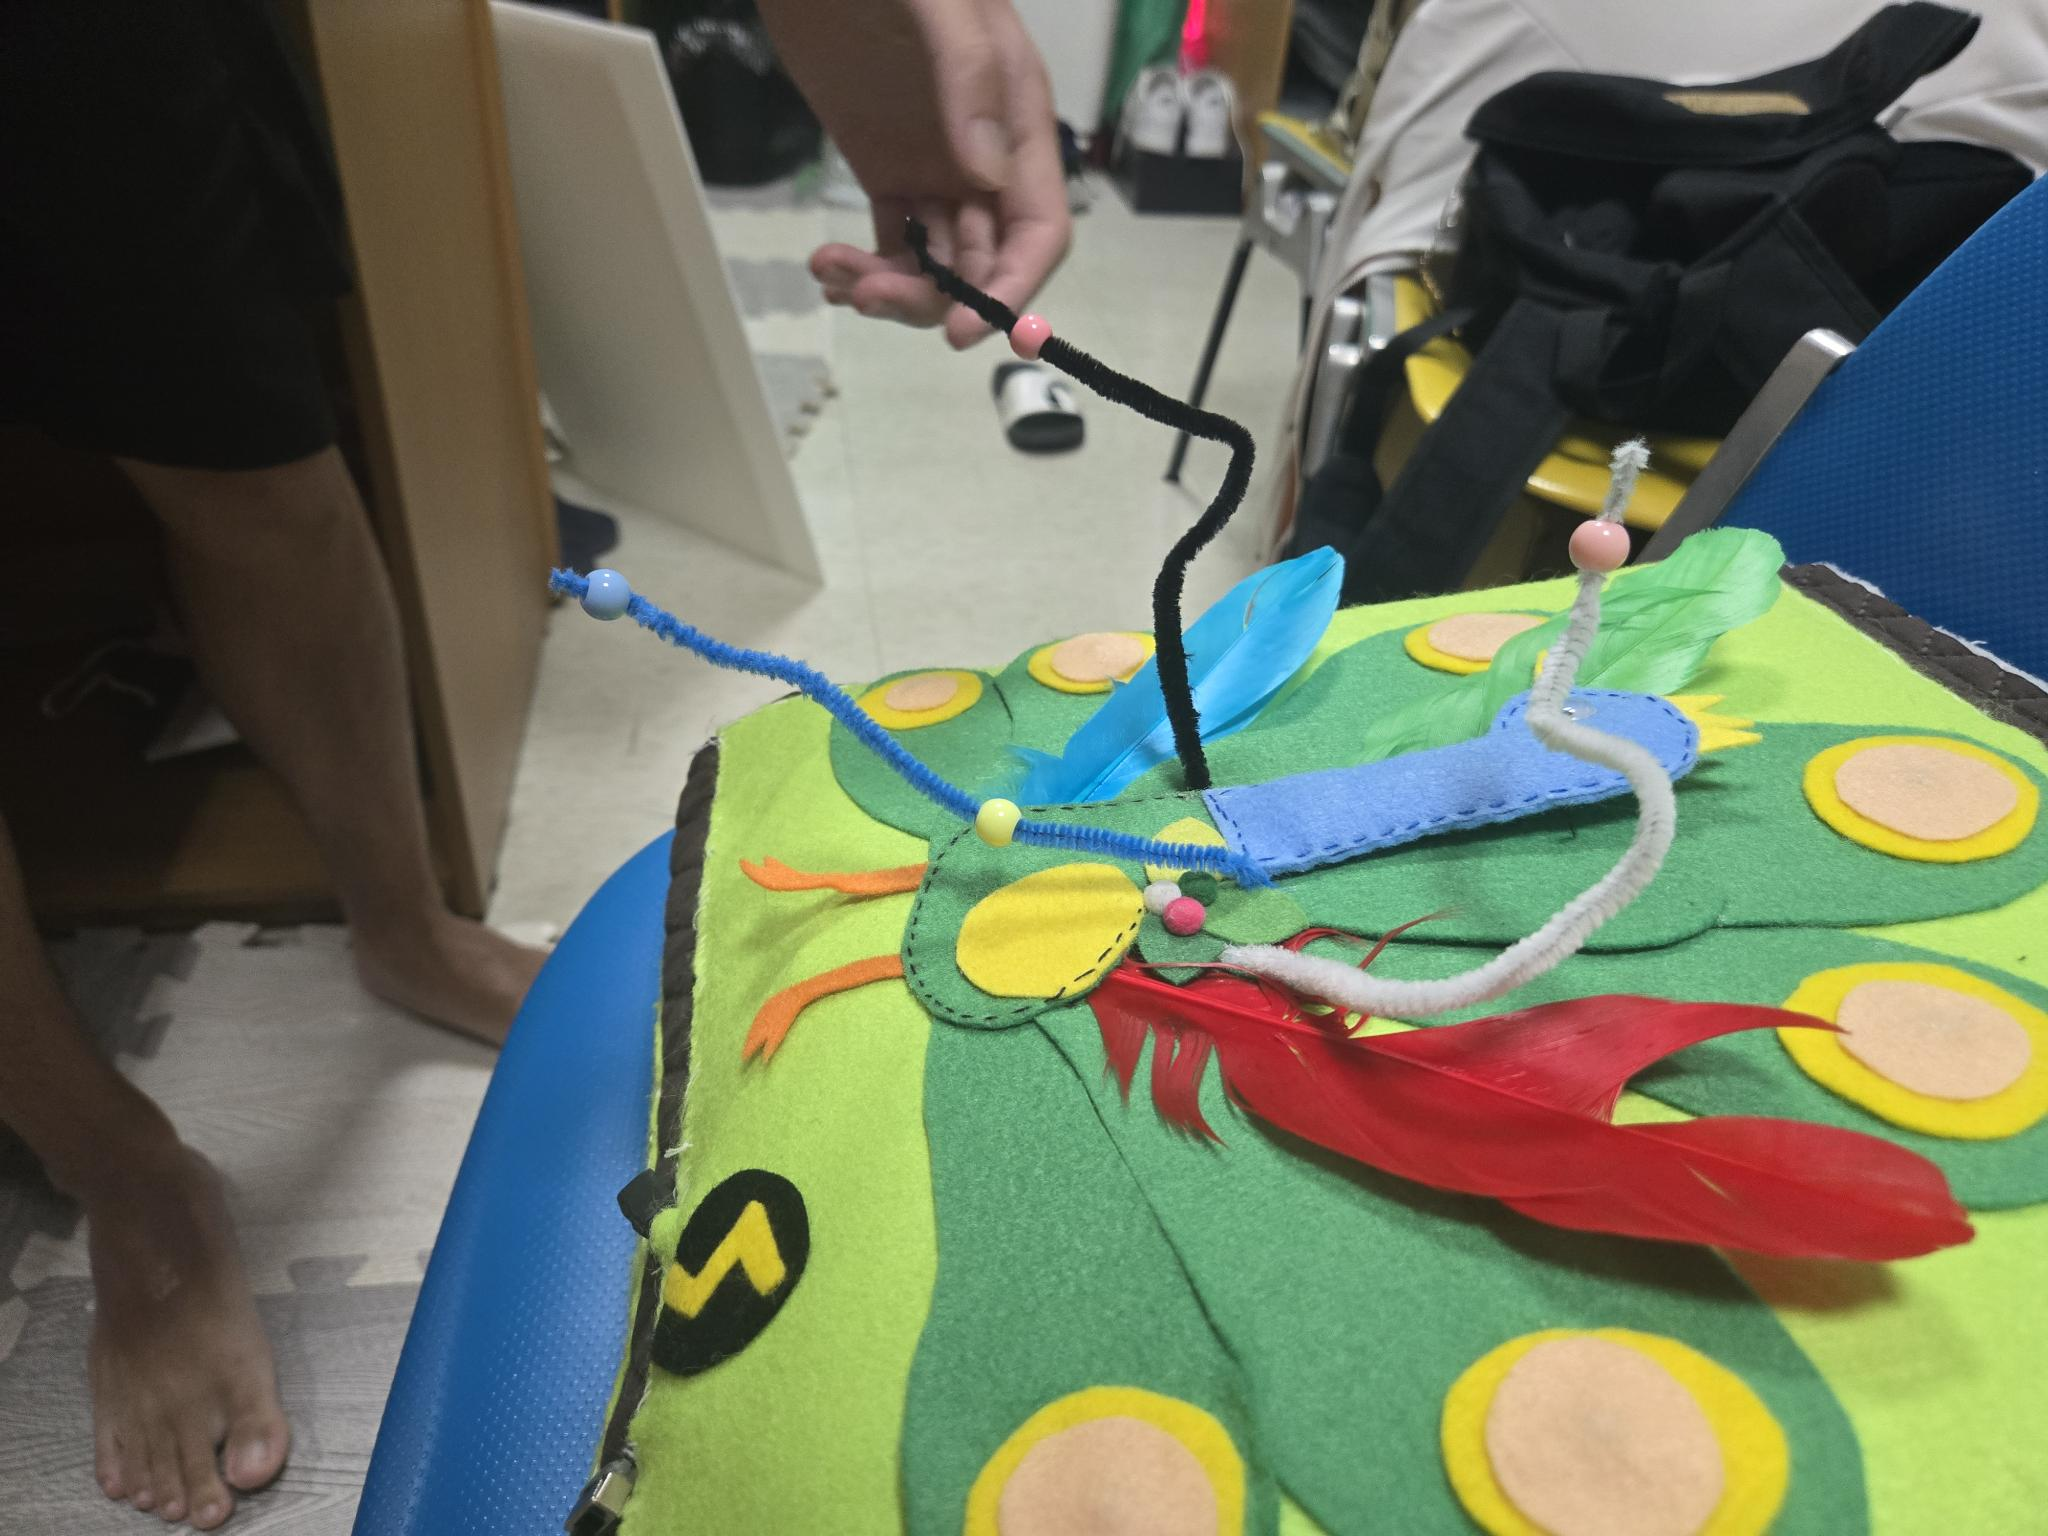bead: (1558, 505, 1663, 597), (963, 781, 1032, 870), (574, 544, 640, 634), (1006, 307, 1058, 374)
